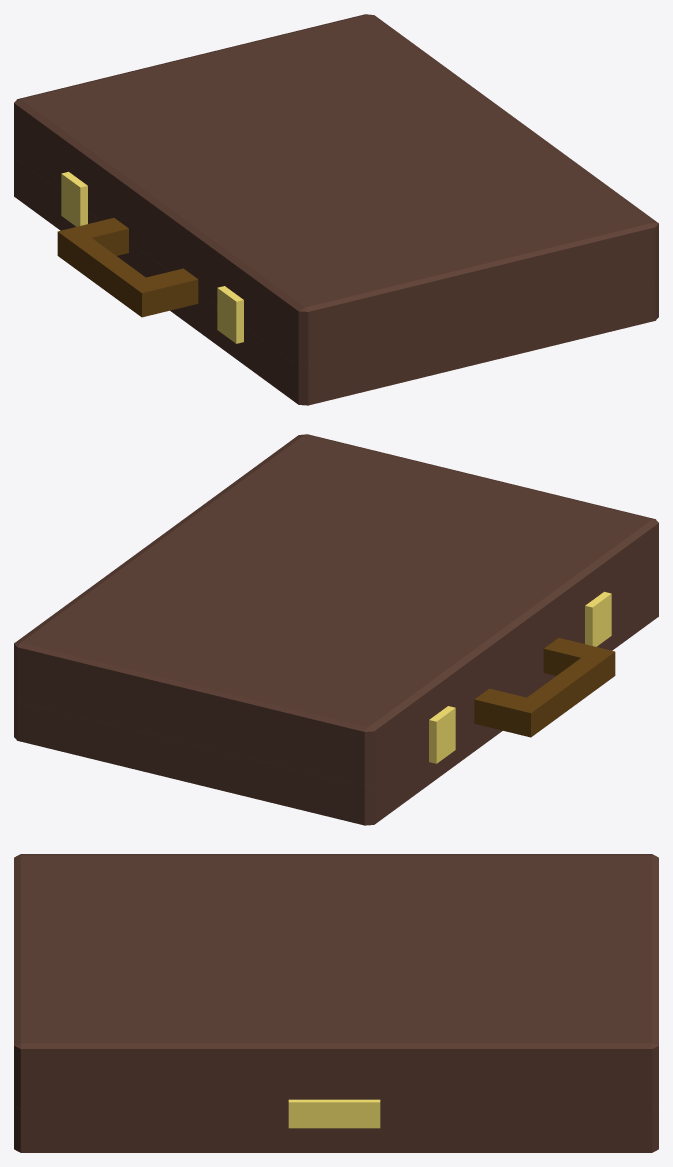
File: ugg_officeworker_briefcase 1.fbx
The picture shows the model from 3 angles, top to bottom: view 1: azimuth 30°, elevation 25°; view 2: azimuth 150°, elevation 25°; view 3: azimuth 270°, elevation 25°; orthographic projection. The views are drawn at different scales.
Visible parts, largest first — view 1: Cube, Cube.001, Cube.005, Cube.002, Cube.003; view 2: Cube, Cube.001, Cube.005, Cube.003, Cube.002; view 3: Cube, Cube.001, Cube.004.
Part boxes in pixels (bbox=[...]): Cube: bbox=[14, 14, 658, 366]; Cube.001: bbox=[14, 158, 658, 405]; Cube.005: bbox=[57, 218, 198, 317]; Cube.002: bbox=[217, 286, 243, 343]; Cube.003: bbox=[61, 171, 87, 226]; Cube: bbox=[14, 434, 658, 786]; Cube.001: bbox=[14, 578, 658, 825]; Cube.005: bbox=[474, 638, 615, 737]; Cube.003: bbox=[429, 706, 455, 763]; Cube.002: bbox=[585, 591, 611, 646]; Cube: bbox=[14, 854, 658, 1109]; Cube.001: bbox=[14, 1106, 658, 1152]; Cube.004: bbox=[288, 1099, 380, 1128].
Size of the model in its own units: 234 by 51.61 by 280.
